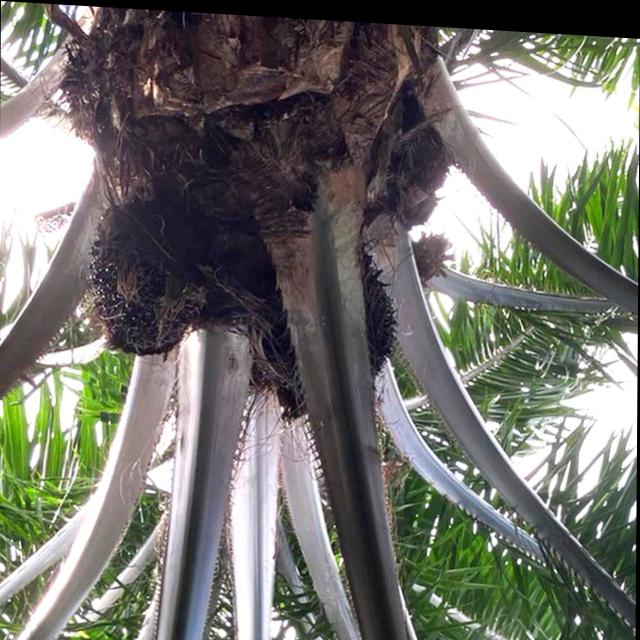unripe: (254, 232, 400, 428)
